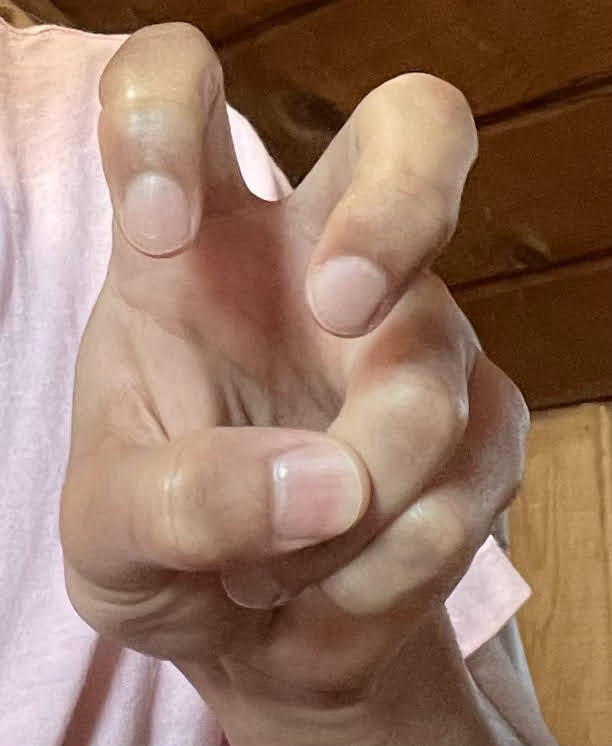pizza: (53, 19, 535, 711)
